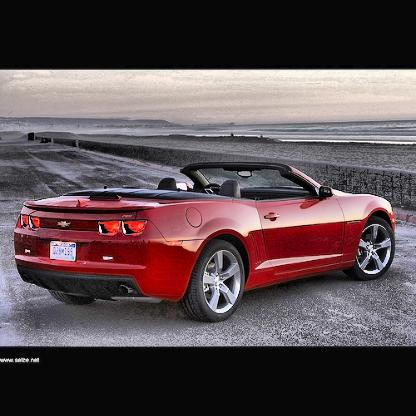Chevrolet Camaro Convertible 2012: (13, 159, 399, 327)
